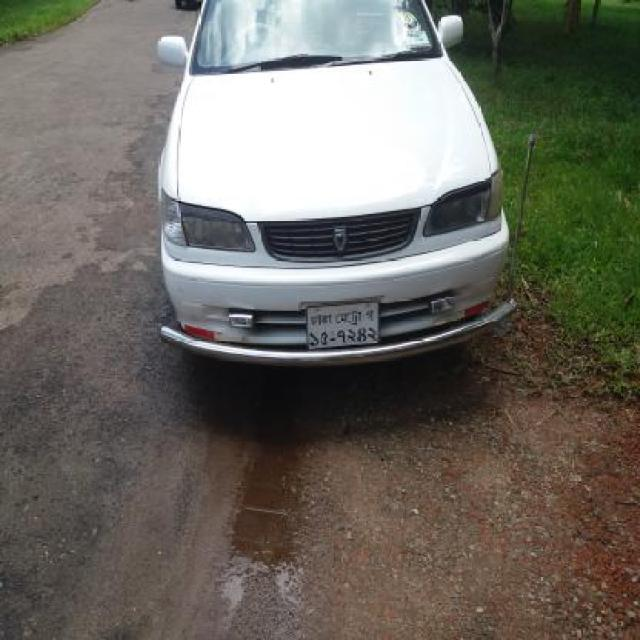numberplate: (304, 300, 380, 350)
